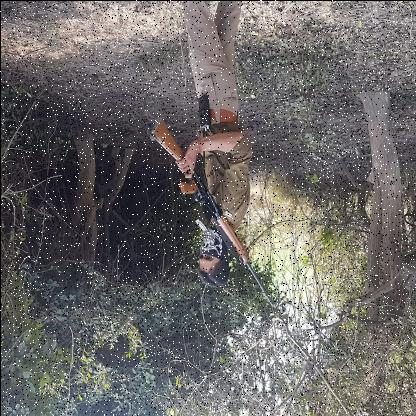rifle: (148, 112, 274, 308)
